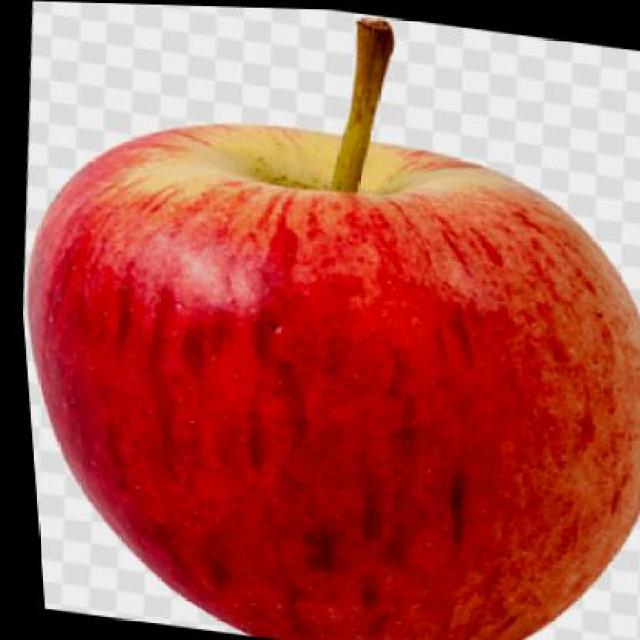Fresh Apple: (44, 117, 640, 640)
